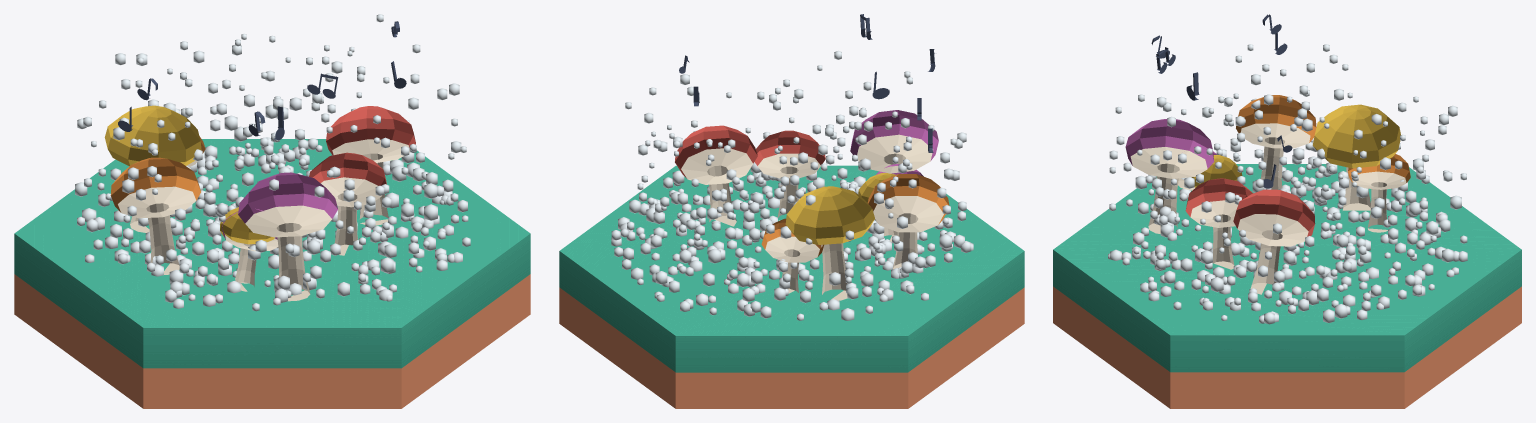
Rendered from grass-singing-mushrooms.glb.
3 views of the same model, side by side, from view 1: azimuth 30°, elevation 25°; view 2: azimuth 150°, elevation 25°; view 3: azimuth 270°, elevation 25° (orthographic). The views are drawn at different scales.
Parts seen in each view (by area): view 1: grass, mist, mushrooms, notes; view 2: grass, mist, mushrooms, notes; view 3: grass, mist, mushrooms, notes.
Boxes of the visible parts, x1=… form: grass: x1=14, y1=139, x2=530, y2=408; mist: x1=75, y1=14, x2=470, y2=311; mushrooms: x1=104, y1=105, x2=415, y2=301; notes: x1=248, y1=73, x2=338, y2=140; grass: x1=559, y1=165, x2=1024, y2=408; mist: x1=611, y1=50, x2=973, y2=320; mushrooms: x1=675, y1=110, x2=949, y2=300; notes: x1=860, y1=14, x2=935, y2=99; grass: x1=1053, y1=164, x2=1521, y2=408; mist: x1=1108, y1=44, x2=1467, y2=324; mushrooms: x1=1125, y1=95, x2=1410, y2=294; notes: x1=1151, y1=35, x2=1199, y2=100.
Bounding box in the file's own units: 1 × 0.7277 × 1.15.
Materials: 8 (1 with a texture image).
